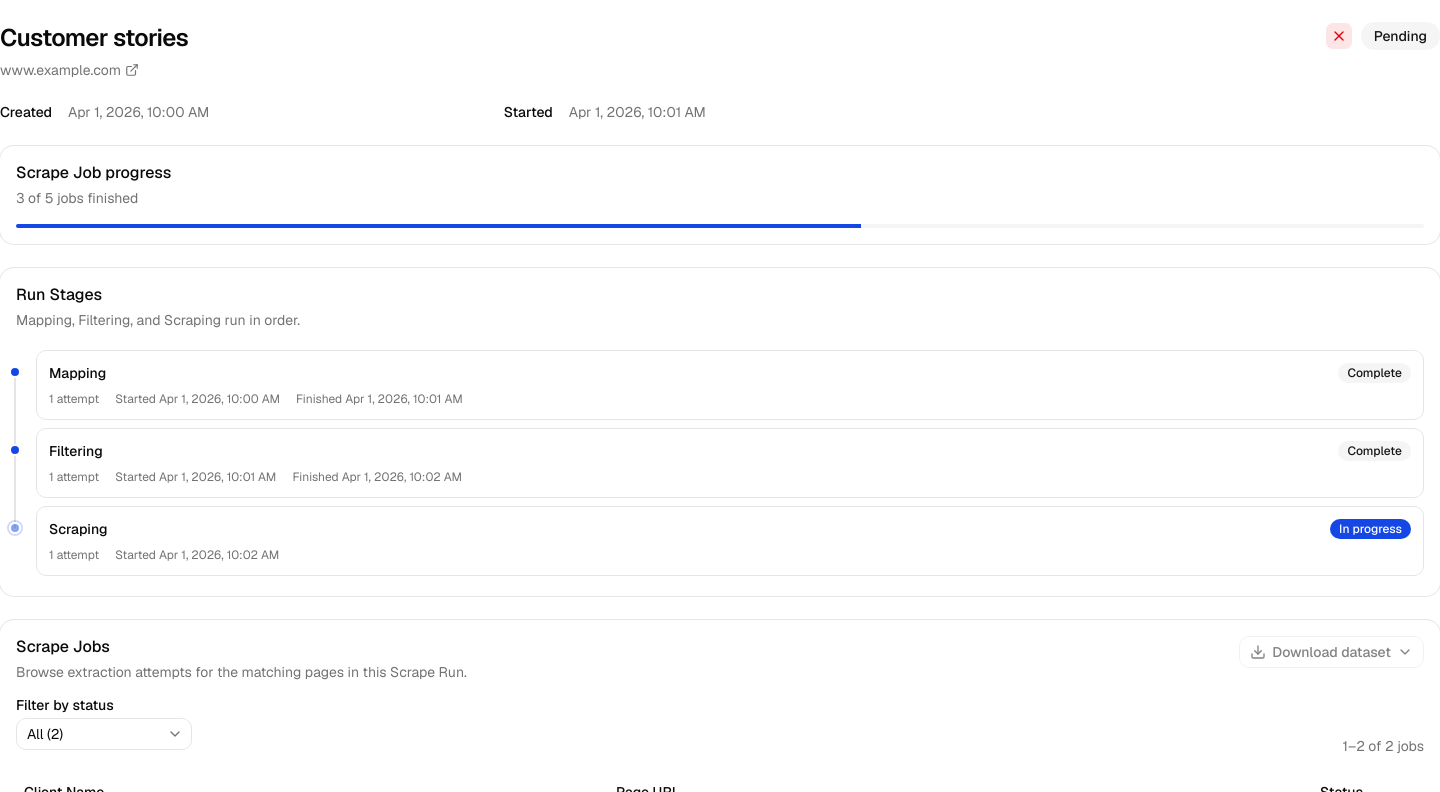
Scenario: Scrape Run cancellation › shows the stale-data warning when only Run-list revalidation fails
The image size is (1440, 792).
Expected: the heading "Customer stories" is shown, [0,22,188,54]
Step 1. Click the button named "Cancel Scrape Run" → (1339, 36), box [1325,22,1353,50]
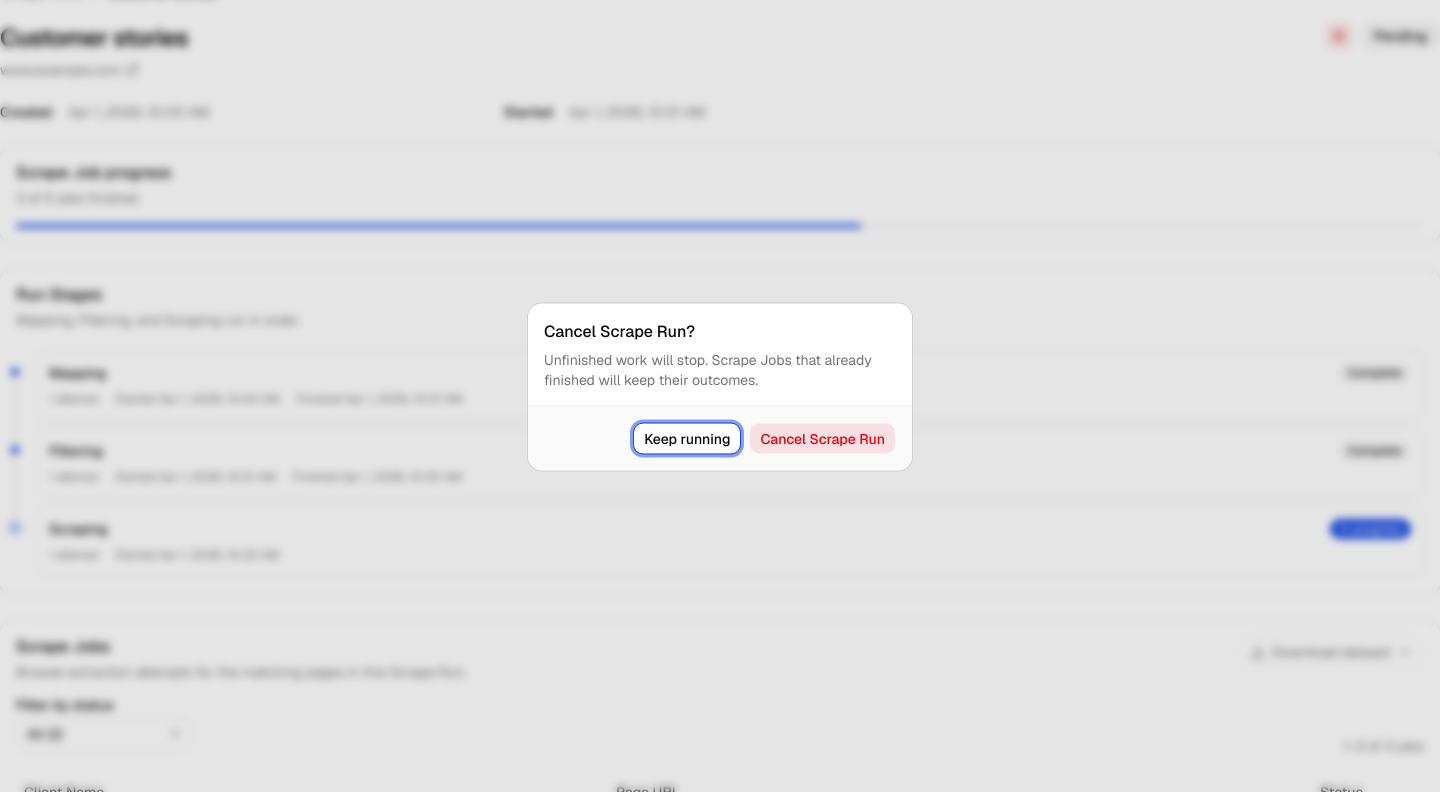
Step 2. Click the button "Cancel Scrape Run" → (823, 438), box [749,422,896,454]
(page scrolled)
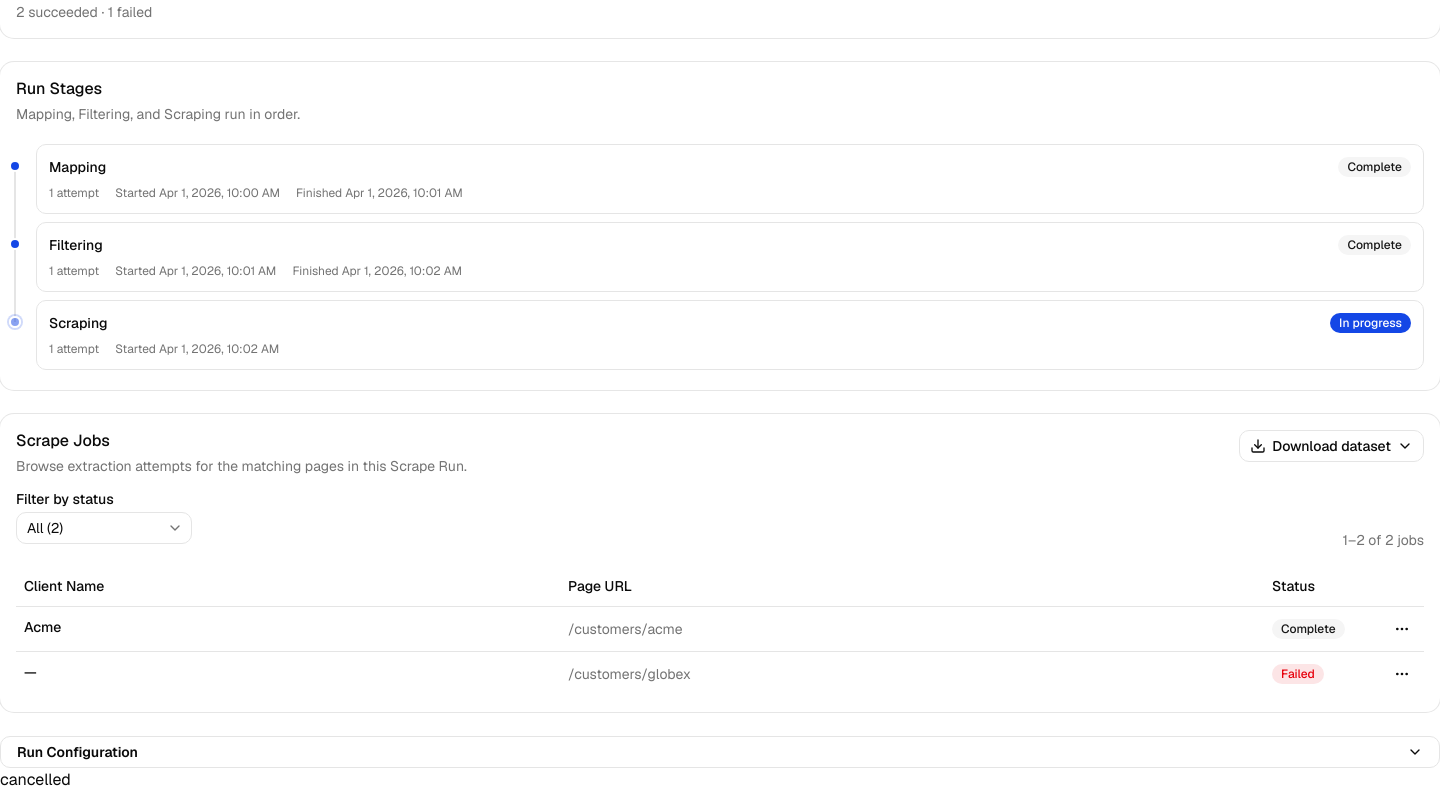
Expected: the text named "Run-list cached status" reads "cancelled", [0,768,71,790]
